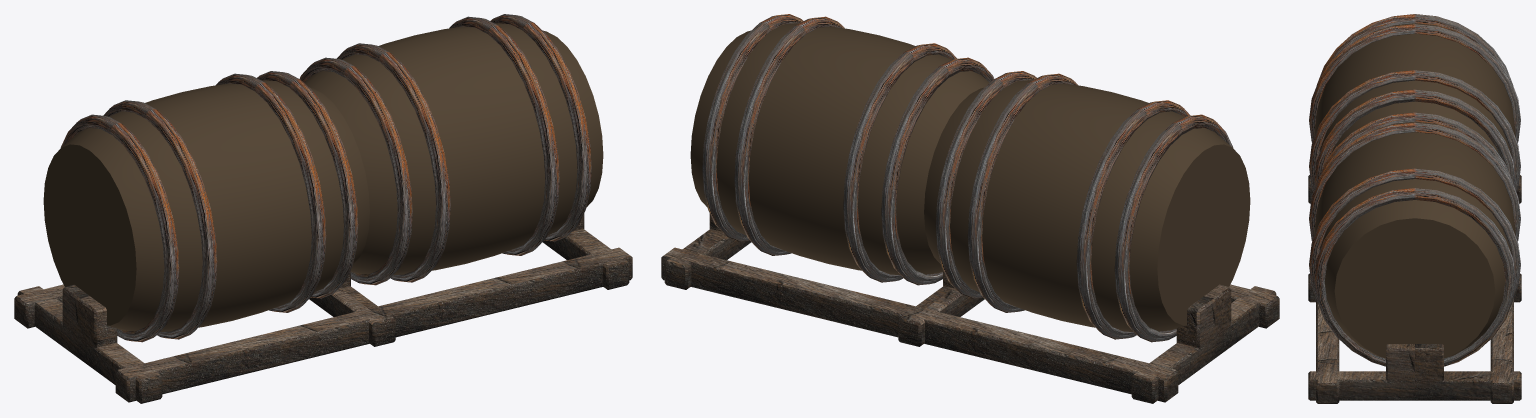
Rendered from barrel-rack-v02.glb.
The picture shows the model from 3 angles, left to right: view 1: azimuth 30°, elevation 25°; view 2: azimuth 150°, elevation 25°; view 3: azimuth 270°, elevation 25°; orthographic projection. The views are drawn at different scales.
Visible parts, largest first — view 1: barrel-rack; view 2: barrel-rack; view 3: barrel-rack.
Part boxes in pixels (box(x1,y1,x2,y2)): barrel-rack: box(14, 14, 632, 403); barrel-rack: box(661, 14, 1279, 403); barrel-rack: box(1308, 14, 1521, 403).
Size of the model in its own units: 2.6 by 1.15 by 1.1.
2 materials, 2 textured.
